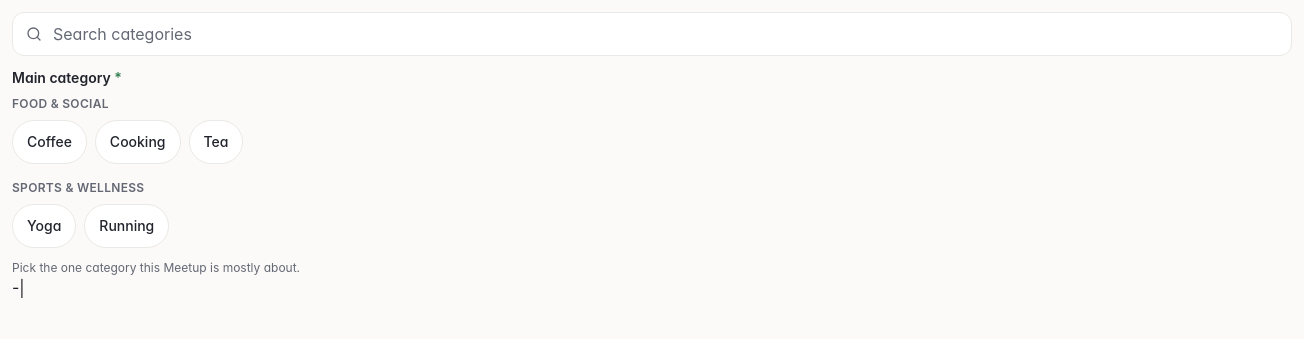
Test: MeetupInterestPicker › assigns the first tap as primary and later taps as additional
Click the button "Coffee": (49, 142) [12, 120, 87, 164]
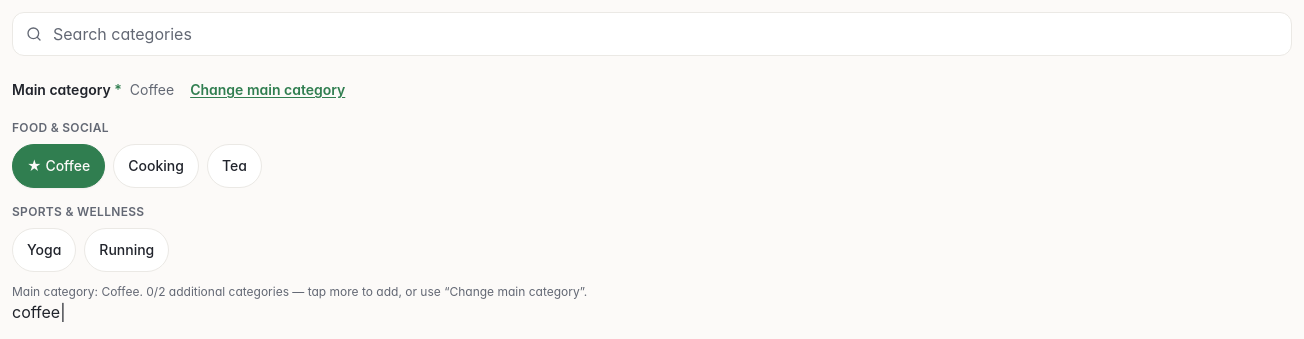
Check: the text with test id "state" reads "coffee|", box [12, 302, 66, 322]
Click the button "Yoga": (44, 250) [12, 228, 76, 272]
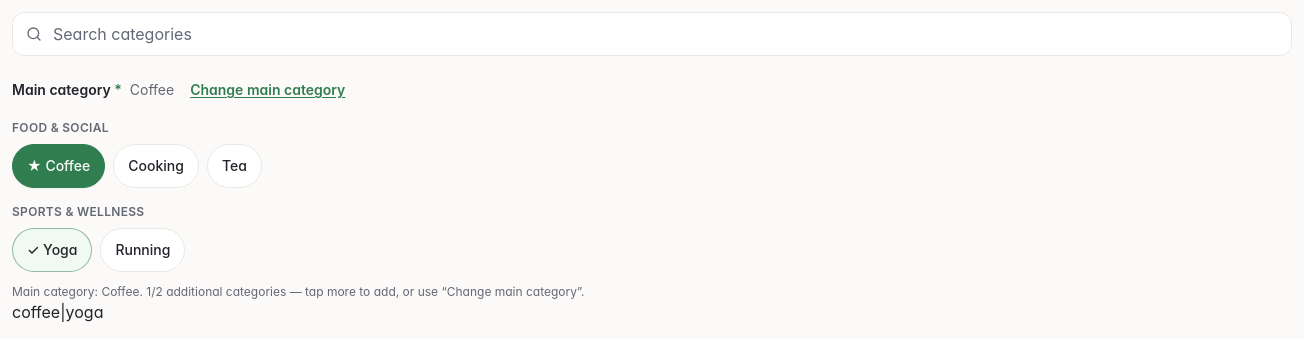
Check: the text with test id "state" reads "coffee|yoga", box [12, 302, 103, 322]
